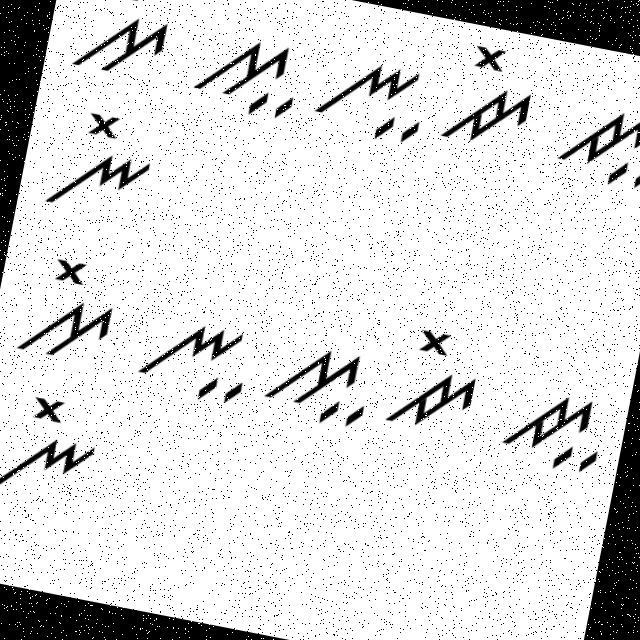jah: (494, 364, 618, 484), (549, 97, 639, 201)
jo: (378, 320, 491, 446), (437, 33, 548, 158)
nyah: (304, 42, 437, 156), (121, 302, 258, 412)
nyo: (36, 100, 168, 229), (0, 373, 117, 510)
sah: (183, 21, 310, 129), (259, 331, 379, 442)
so: (13, 246, 127, 373), (62, 0, 185, 87)
